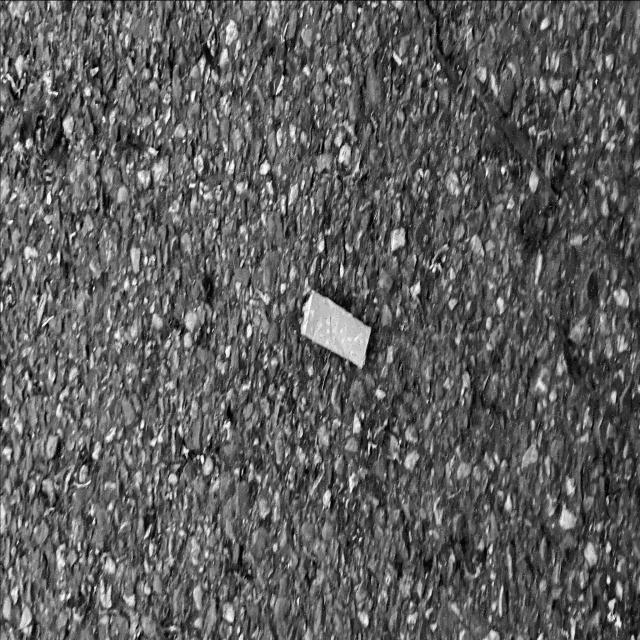other waste: (299, 289, 372, 370)
